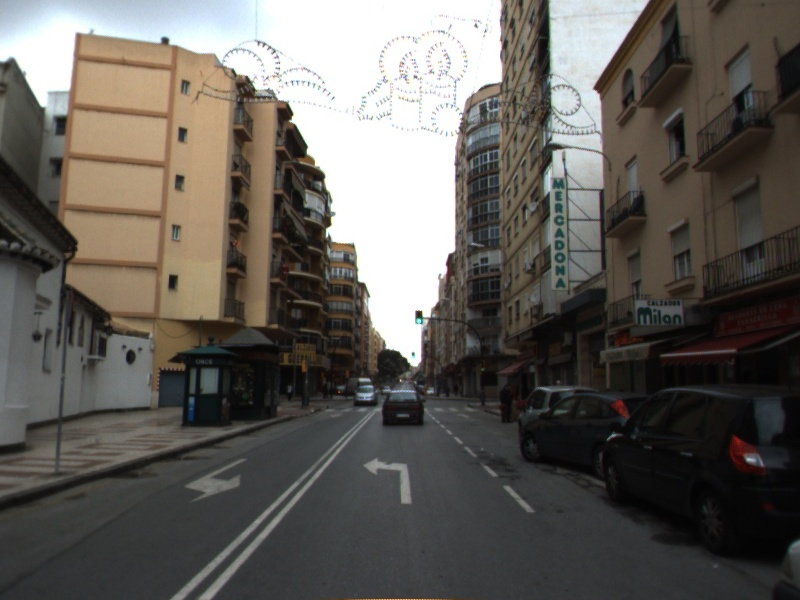LEFT: (362, 456, 413, 506)
